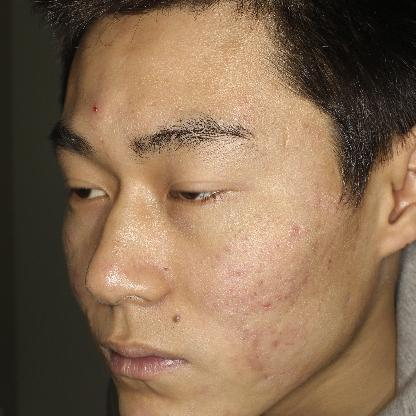Blackheads: (87, 101, 105, 117)
